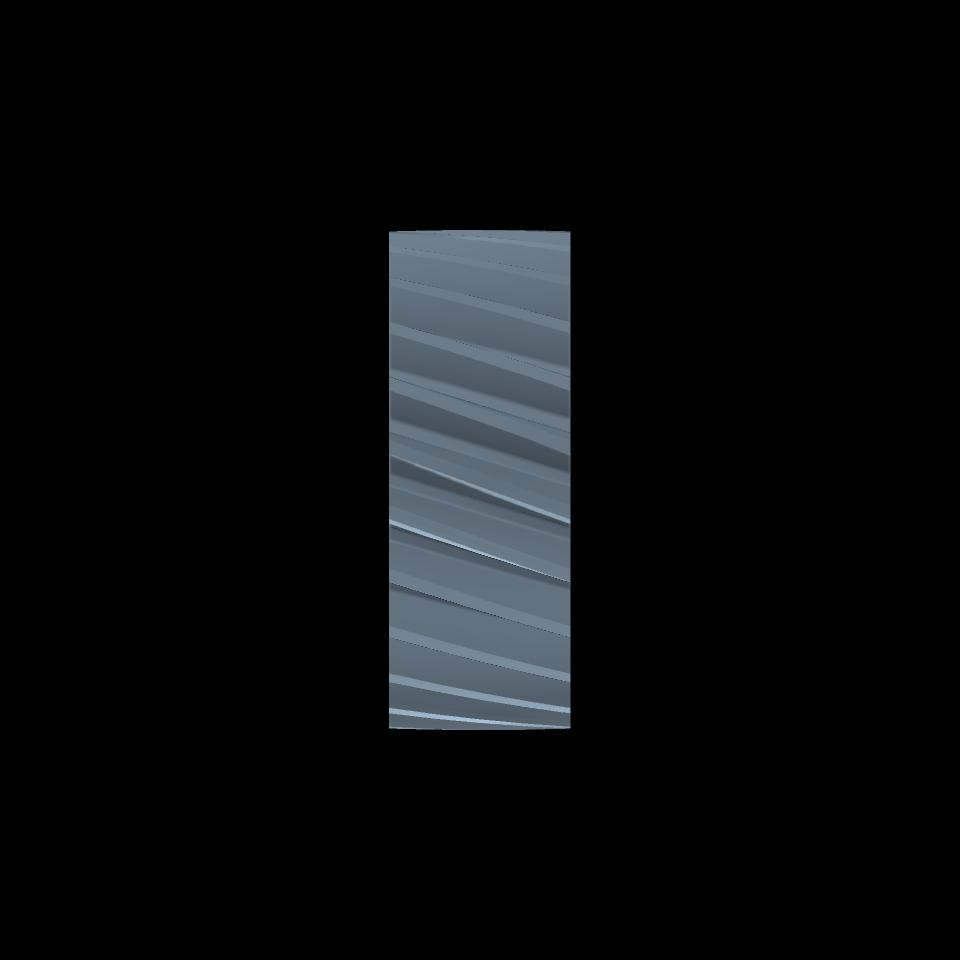Helical: (389, 230, 569, 728)
